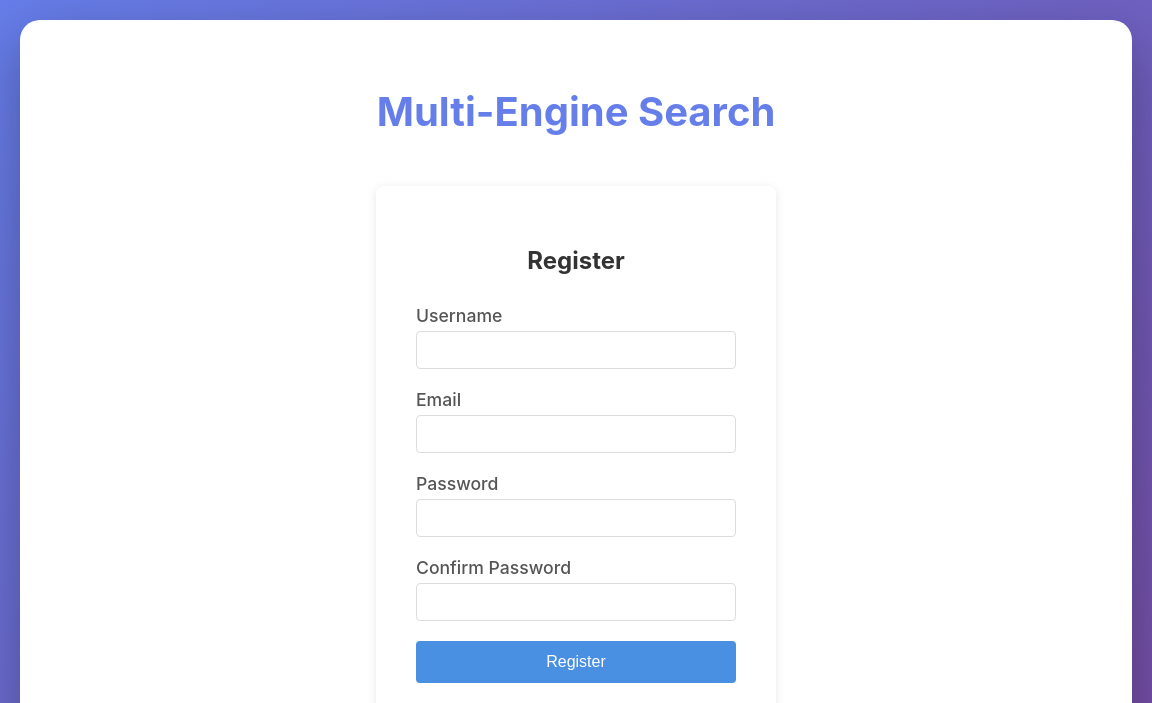
Test case: Search App - Authentication (Mocked) › should show validation errors on registration
The width and height of the screenshot is (1152, 703).
Try to submit with short username
Type "ab" into the field with id "username". click: {"x": 576, "y": 350}
box: [416,331,736,369]
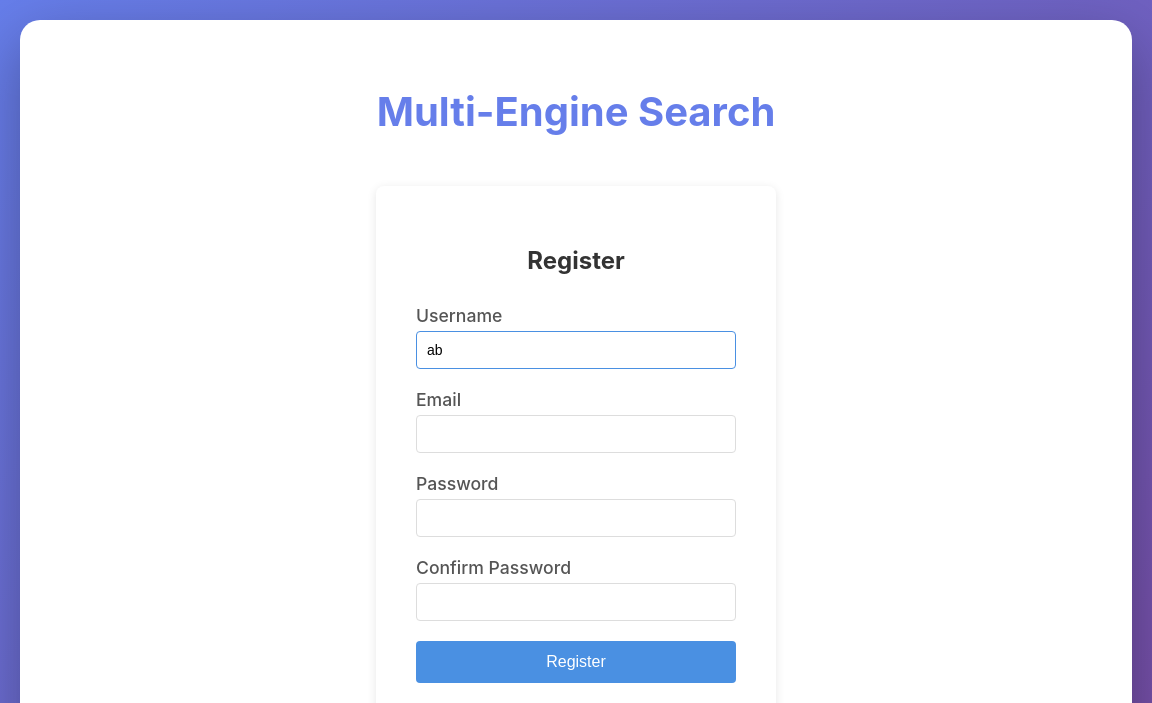
Type "test@example.com" into the field with id "email". click: {"x": 576, "y": 434}
box: [416,415,736,453]
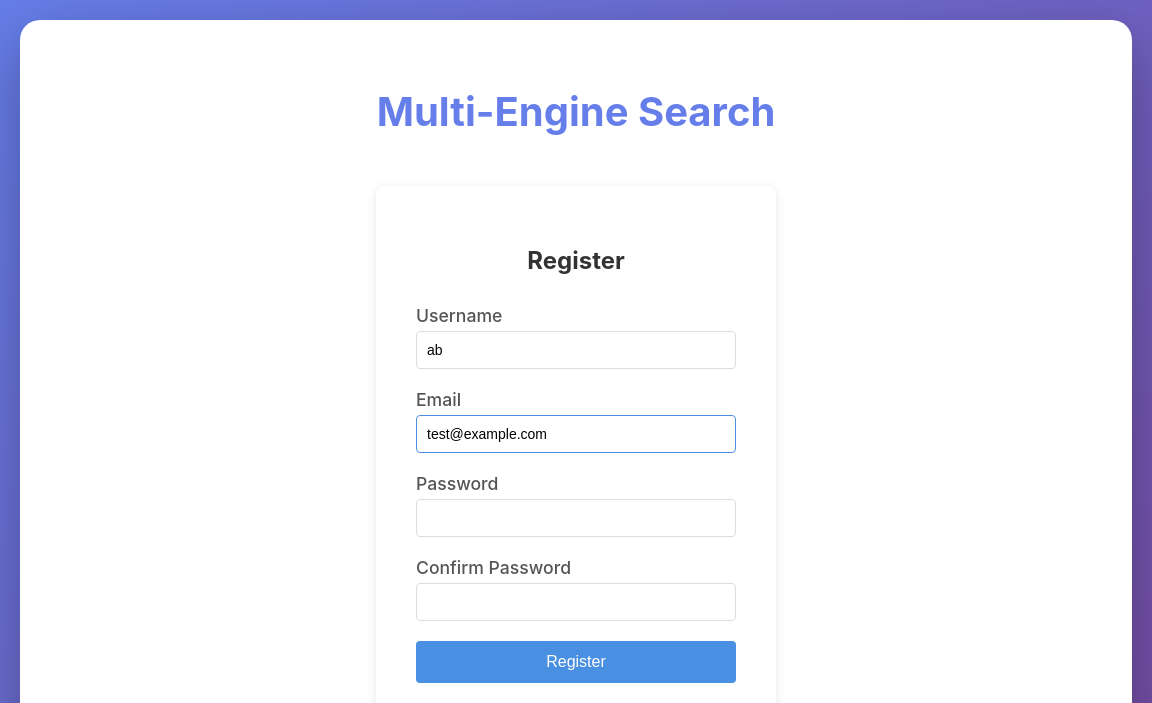
Type "password123" into the password field labelled "Password". click: {"x": 576, "y": 518}
box: [416,499,736,537]
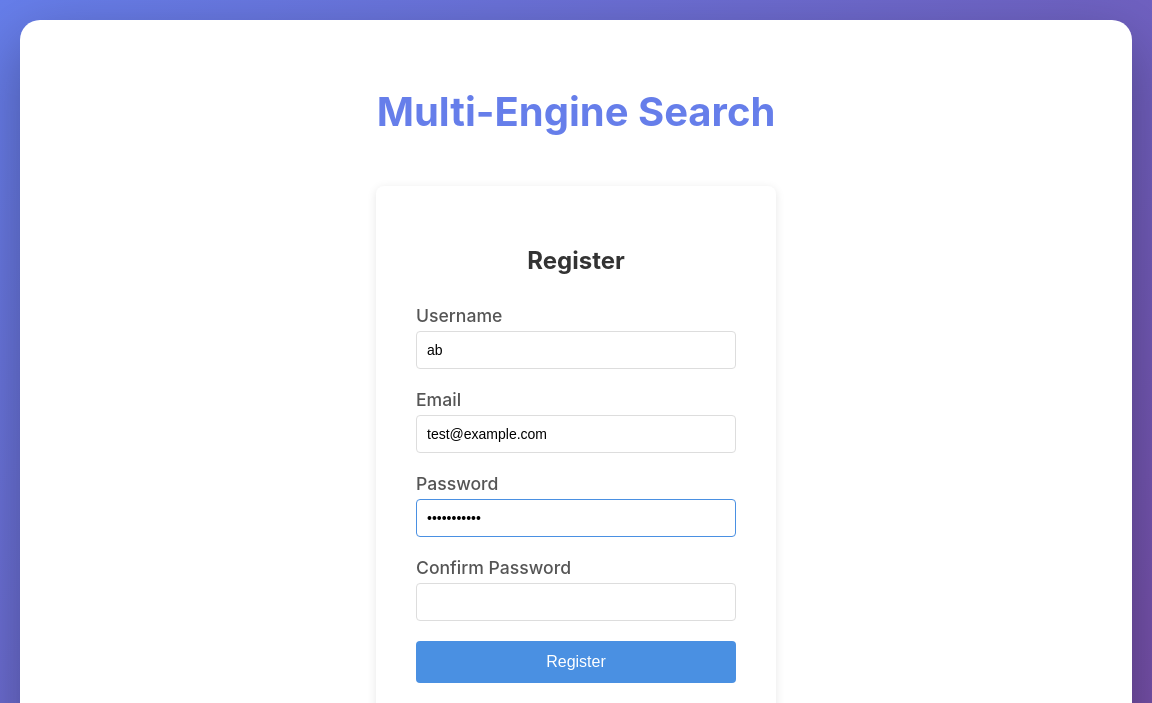
Type "password123" into the password field with id "confirmPassword". click: {"x": 576, "y": 602}
box: [416,583,736,621]
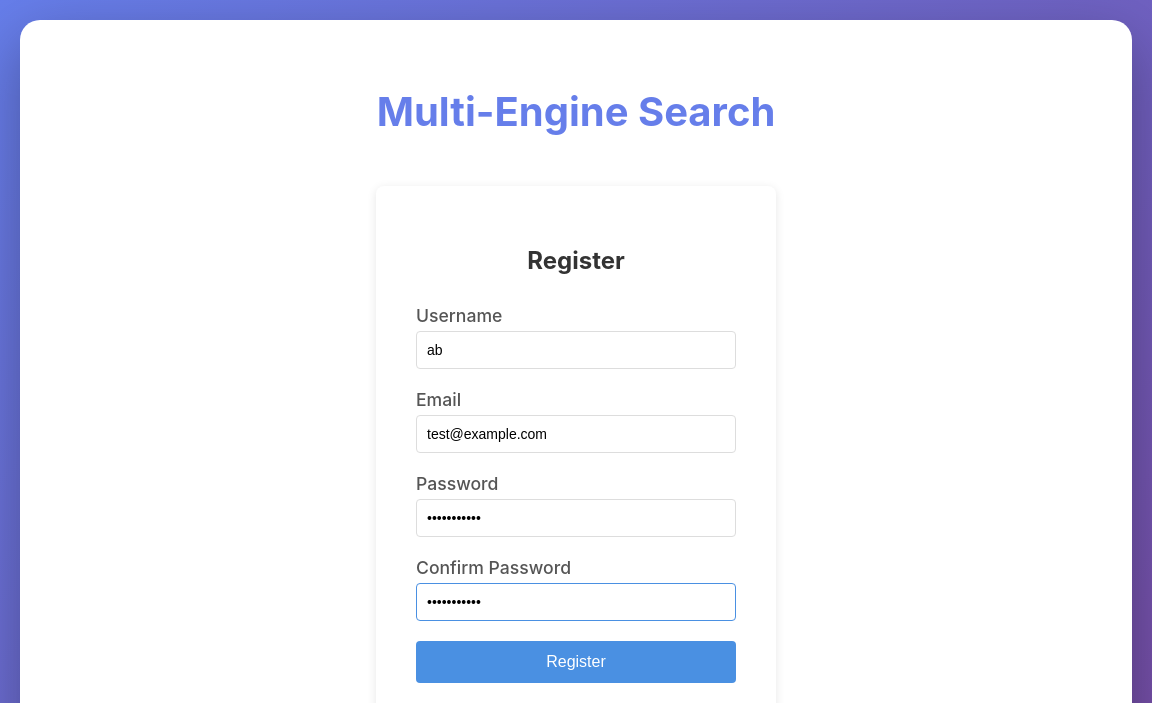
Click the submit button. click: {"x": 576, "y": 662}
box: [416,641,736,683]
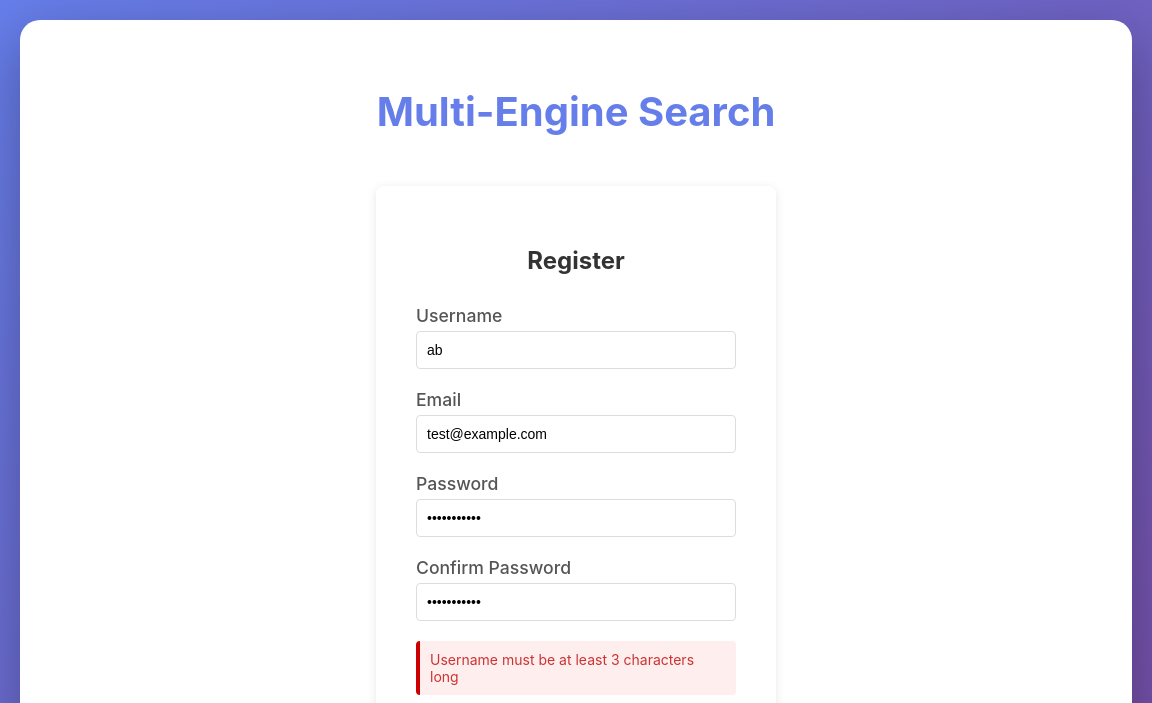
Result: the text with class "error-message" shows "at least 3 characters" at [430,651,694,685]
